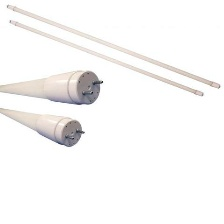light_bulb: (4, 4, 222, 90), (7, 19, 207, 98), (0, 68, 108, 107), (0, 105, 86, 152)
